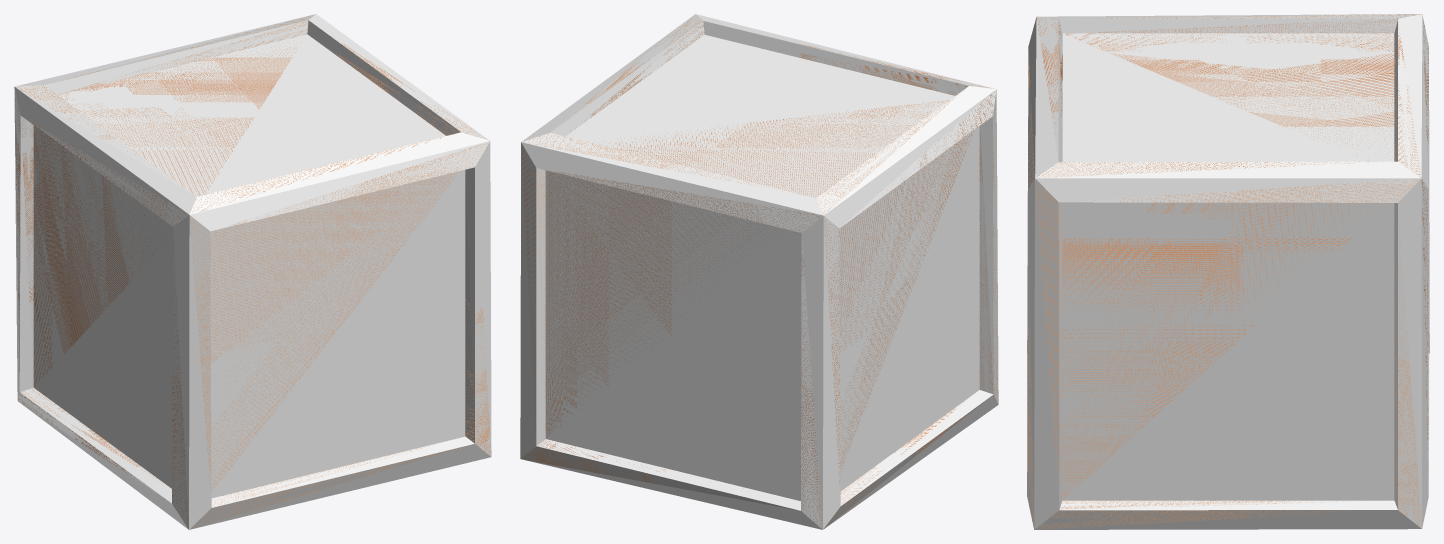
The picture shows the model from 3 angles, left to right: view 1: azimuth 30°, elevation 25°; view 2: azimuth 150°, elevation 25°; view 3: azimuth 270°, elevation 25°; orthographic projection. The views are drawn at different scales.
Visible parts, largest first — view 1: Box001; view 2: Box001; view 3: Box001.
Boxes of the visible parts, bbox=[...] form: Box001: bbox=[14, 14, 491, 529]; Box001: bbox=[520, 14, 998, 529]; Box001: bbox=[1027, 14, 1429, 529].
Size of the model in its own units: 50 by 49.9 by 50.
